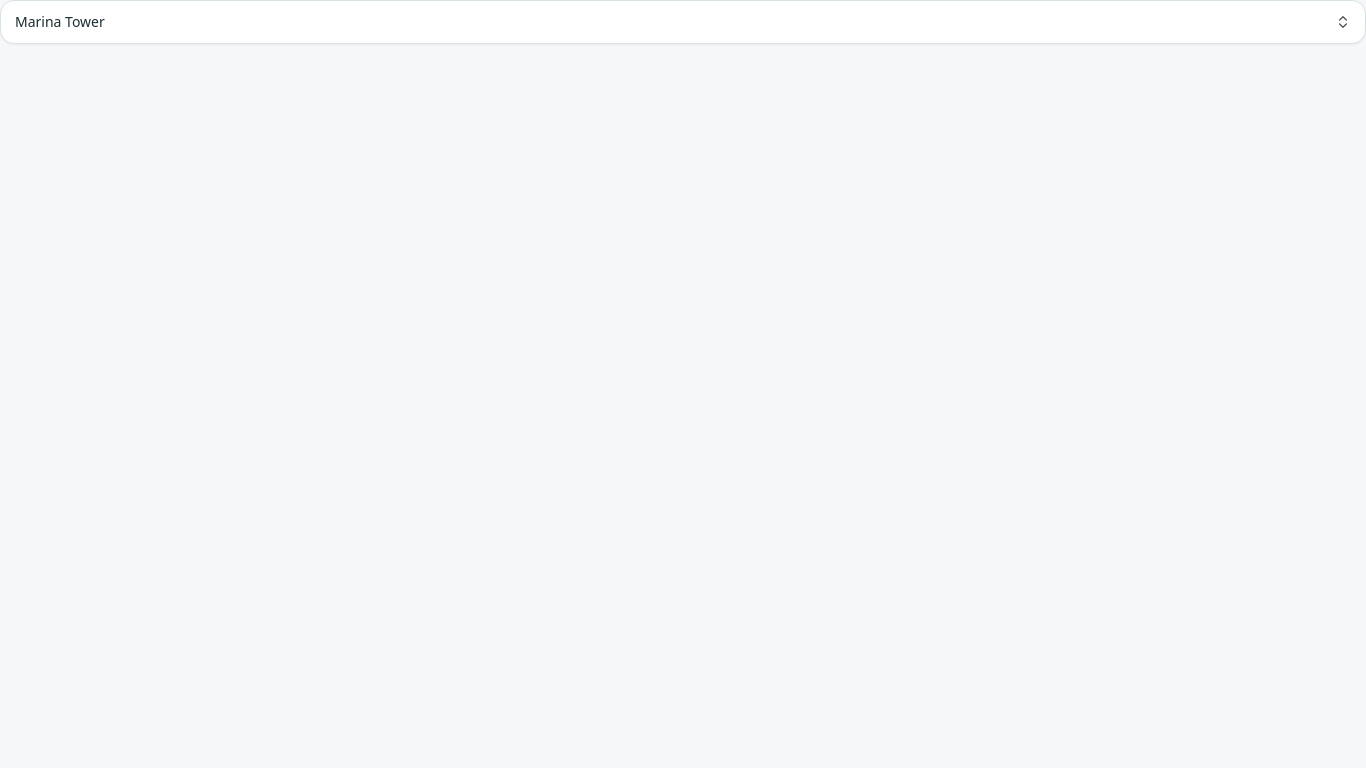
Test case: reference choices › shows one building for catalogue and saved spelling variants without changing saved text
Later steps or results of the test are not shown.
Click the dropdown at coordinates (60, 22), box [0,0,1365,44]
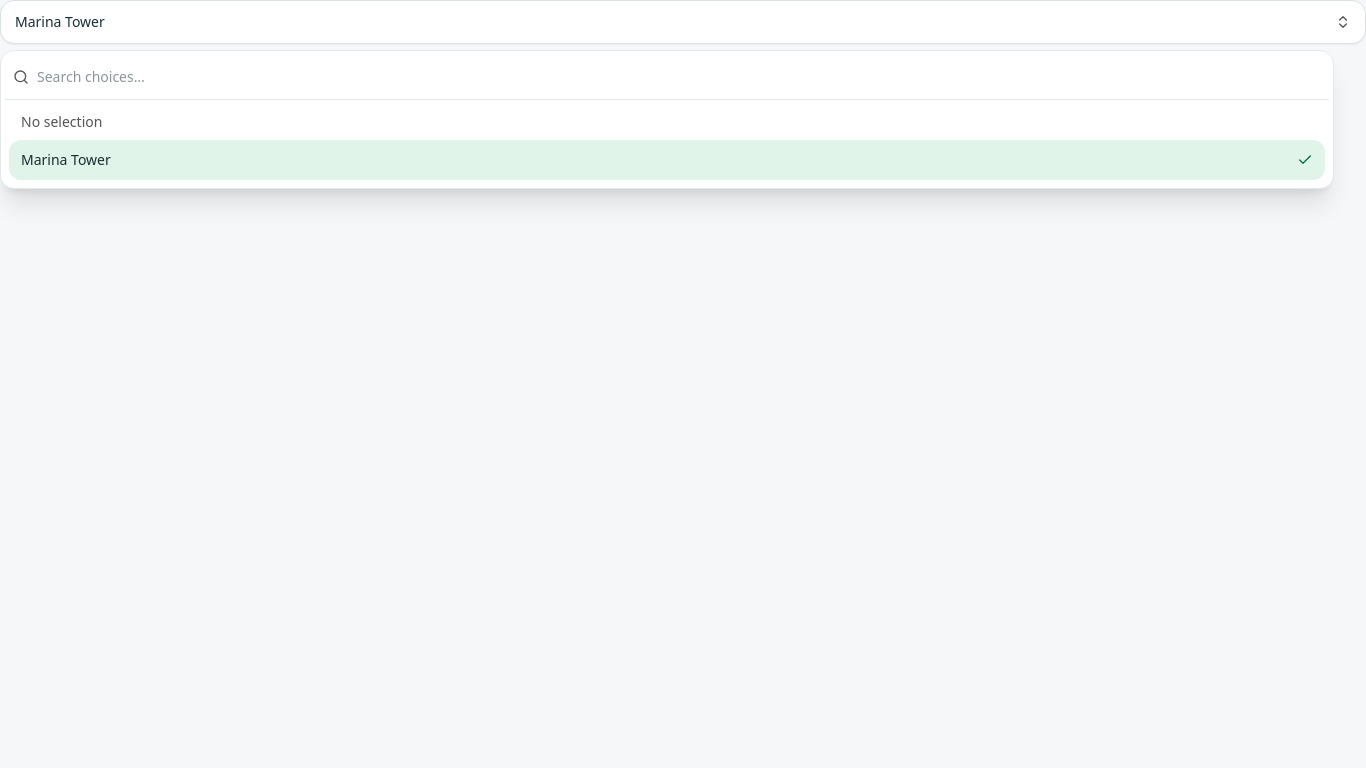
Expected: the number of options "Marina Tower" is 1, [9,140,1325,180]
